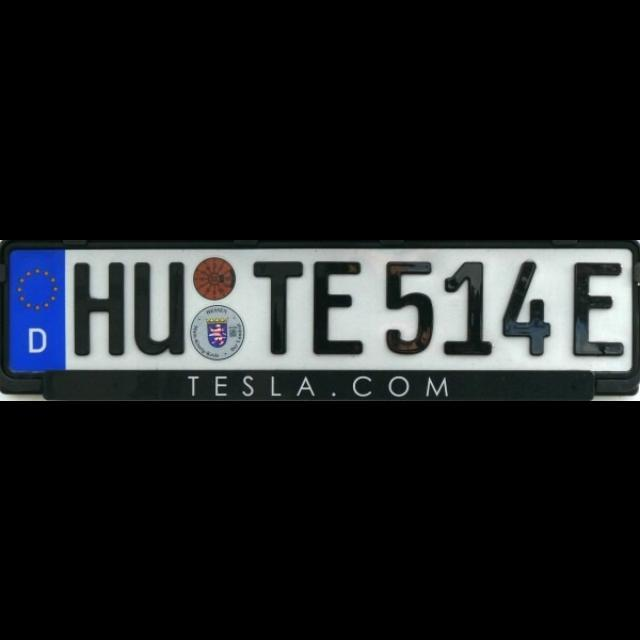license-plates: (0, 241, 640, 400)
